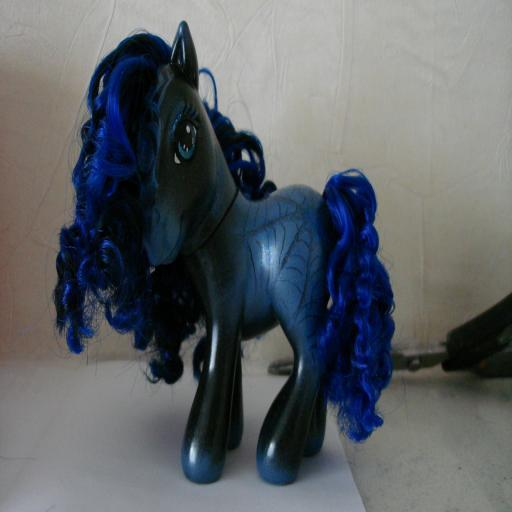horse: (52, 24, 396, 482)
